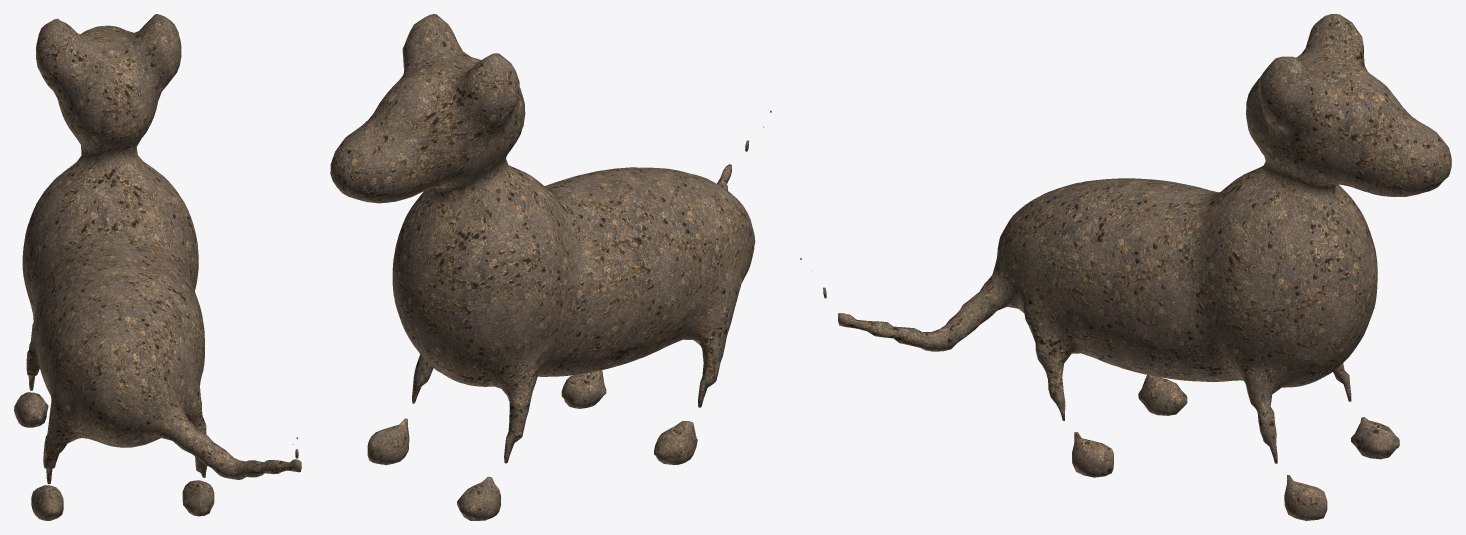
Rendered from Sculpt_DBA_Deer.fbx.
3 renders of one model, left to right at view 1: azimuth 30°, elevation 25°; view 2: azimuth 150°, elevation 25°; view 3: azimuth 270°, elevation 25°, orthographic. The views are drawn at different scales.
Visible parts, largest first — view 1: Sculpt_DBA_Deer; view 2: Sculpt_DBA_Deer; view 3: Sculpt_DBA_Deer.
Boxes of the visible parts, x1,y1,x2,y2 form: Sculpt_DBA_Deer: (14,14,301,520); Sculpt_DBA_Deer: (330,14,771,520); Sculpt_DBA_Deer: (800,14,1451,520).
Bounding box in the file's own units: 276 × 610 × 461.
